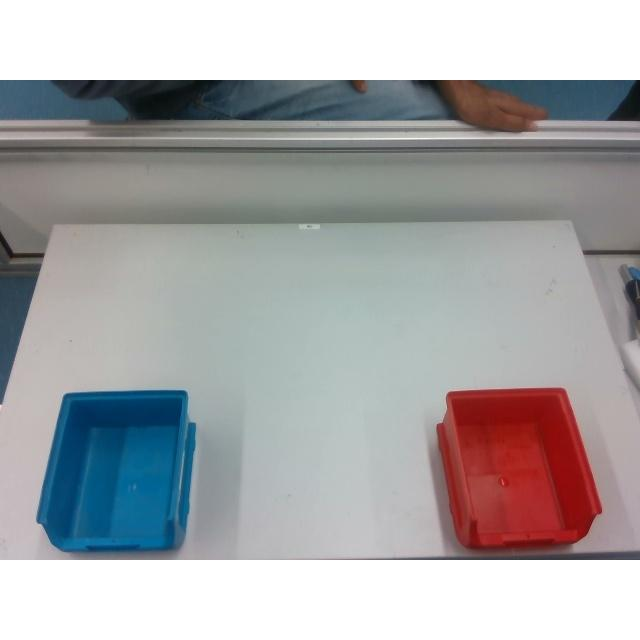container_box_blue: (37, 390, 195, 550)
container_box_red: (437, 387, 601, 547)
